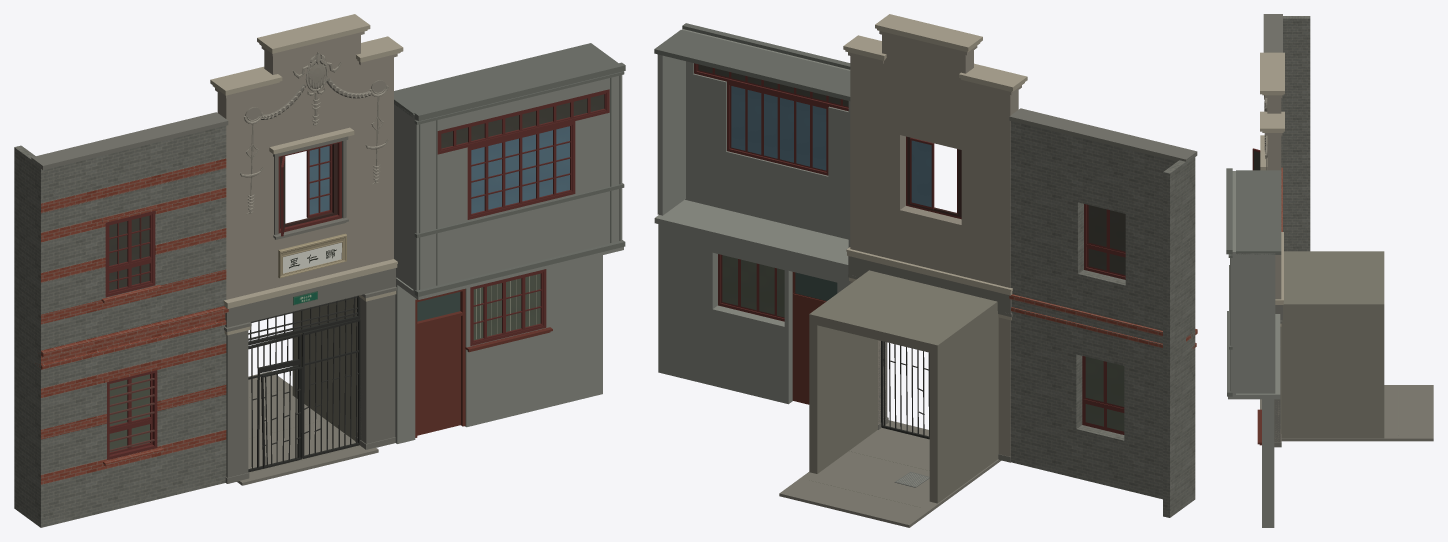
The model's file is jingan-guiren-li-kangding-lane-gate-lod.glb.
3 views of the same model, side by side, from view 1: azimuth 30°, elevation 25°; view 2: azimuth 150°, elevation 25°; view 3: azimuth 270°, elevation 25° (orthographic). The views are drawn at different scales.
Visible parts, largest first — view 1: 归仁里康定东路过街楼、镜心山花与相邻街窗; view 2: 归仁里康定东路过街楼、镜心山花与相邻街窗; view 3: 归仁里康定东路过街楼、镜心山花与相邻街窗.
Boxes of the visible parts, x1,y1,x2,y2 form: 归仁里康定东路过街楼、镜心山花与相邻街窗: [14, 14, 625, 527]; 归仁里康定东路过街楼、镜心山花与相邻街窗: [654, 14, 1197, 527]; 归仁里康定东路过街楼、镜心山花与相邻街窗: [1226, 14, 1433, 527].
Size of the model in its own units: 12.71 by 9.32 by 5.05.
31 materials, 6 textured.
